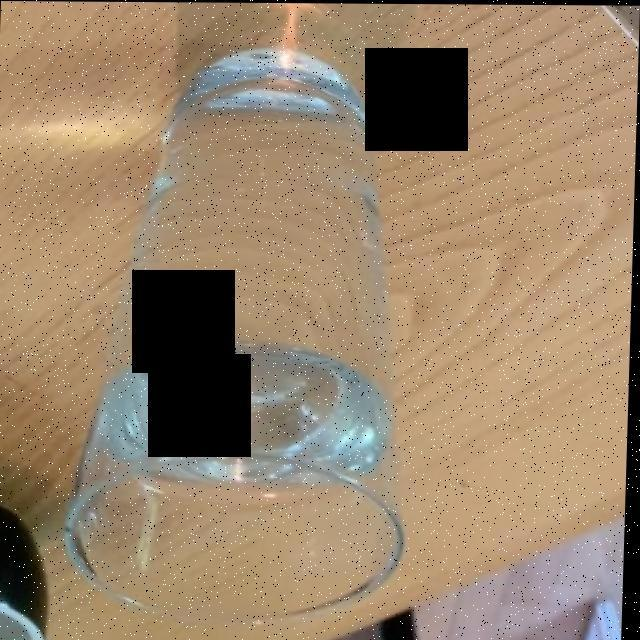water: (106, 77, 381, 492), (116, 81, 379, 485)
